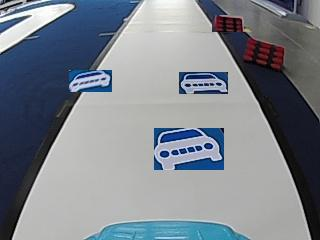bomb: (242, 38, 286, 70)
